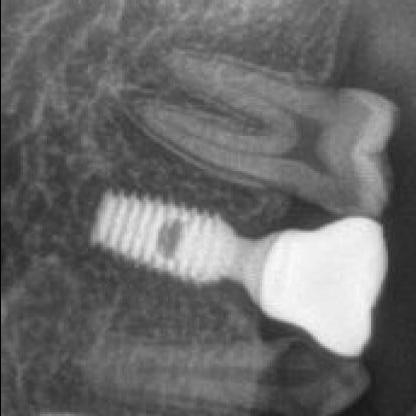Bicon: (75, 176, 253, 292)
